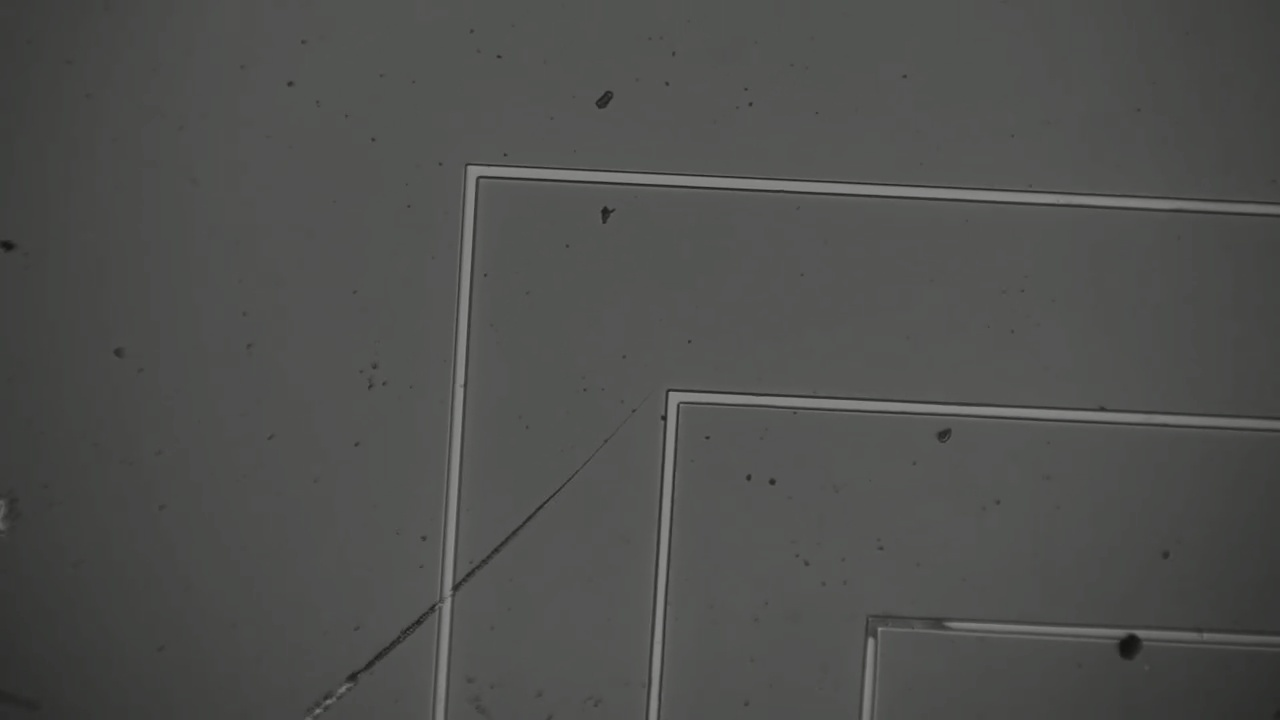gray_line: (857, 607, 961, 644), (857, 601, 892, 655)
scratch: (291, 399, 651, 719)
stains_enbedded: (1104, 611, 1158, 677)
